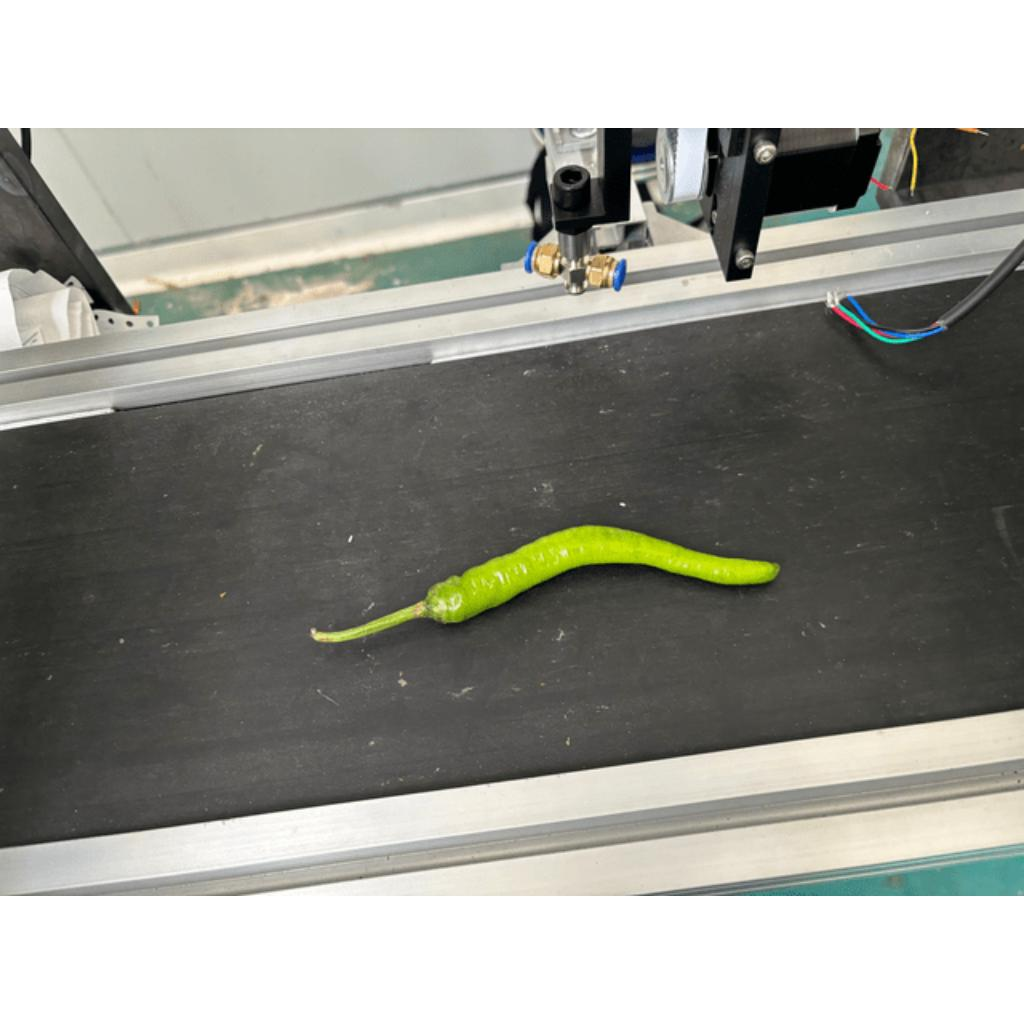chili: (423, 522, 784, 628)
